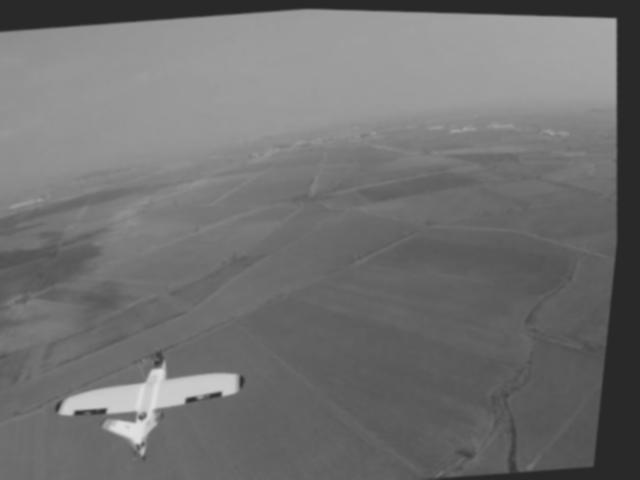hedef: (39, 324, 283, 478)
